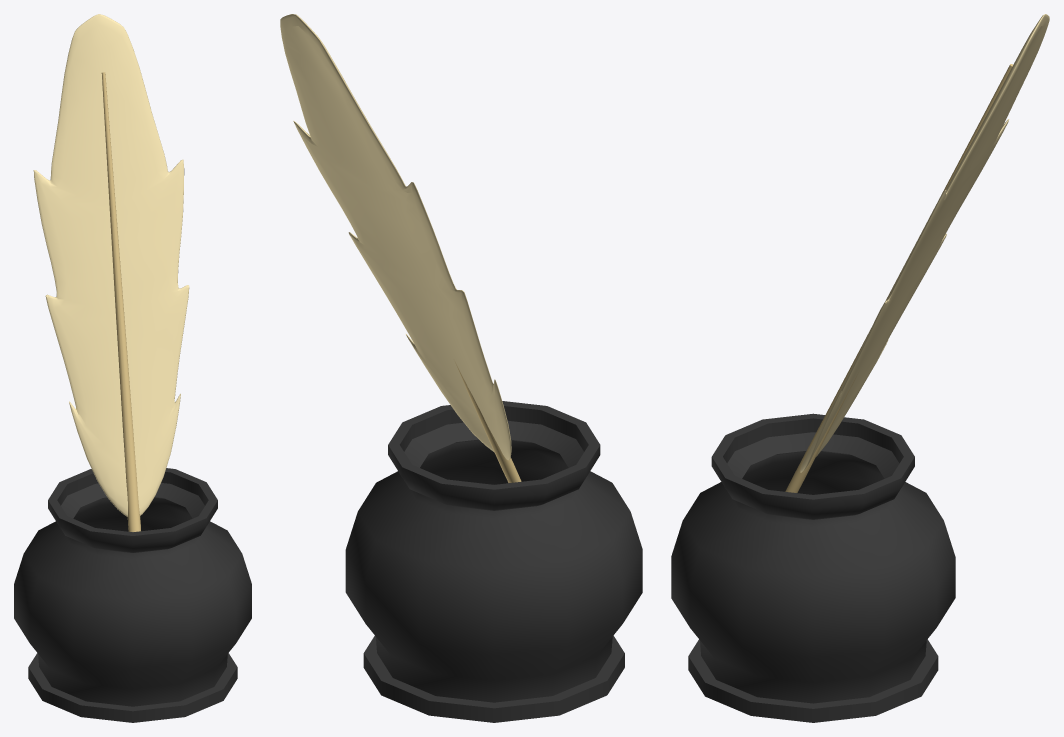
File: inkpen.fbx
3 views of the same model, side by side, from view 1: azimuth 30°, elevation 25°; view 2: azimuth 150°, elevation 25°; view 3: azimuth 270°, elevation 25° (orthographic). The views are drawn at different scales.
Visible parts, largest first — view 1: Cylinder, Circle; view 2: Circle, Cylinder; view 3: Circle, Cylinder.
Boxes of the visible parts, <box> form: Cylinder: <box>33,14,189,531</box>; Circle: <box>14,468,251,722</box>; Circle: <box>345,401,642,722</box>; Cylinder: <box>280,14,521,482</box>; Circle: <box>671,413,955,722</box>; Cylinder: <box>785,14,1049,492</box>.
Size of the model in its own units: 257 by 680 by 337.
